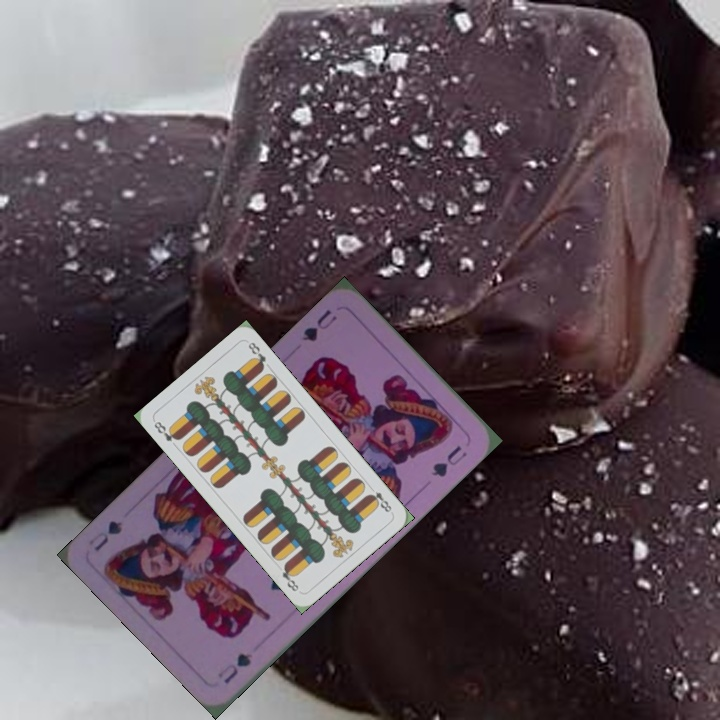E8: (364, 482, 395, 516), (150, 417, 183, 444)
GU: (298, 305, 340, 344), (213, 649, 256, 687)
